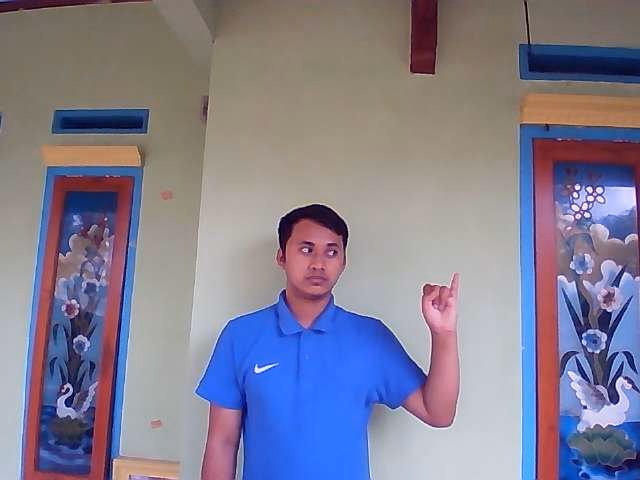I: (421, 272, 462, 332)
